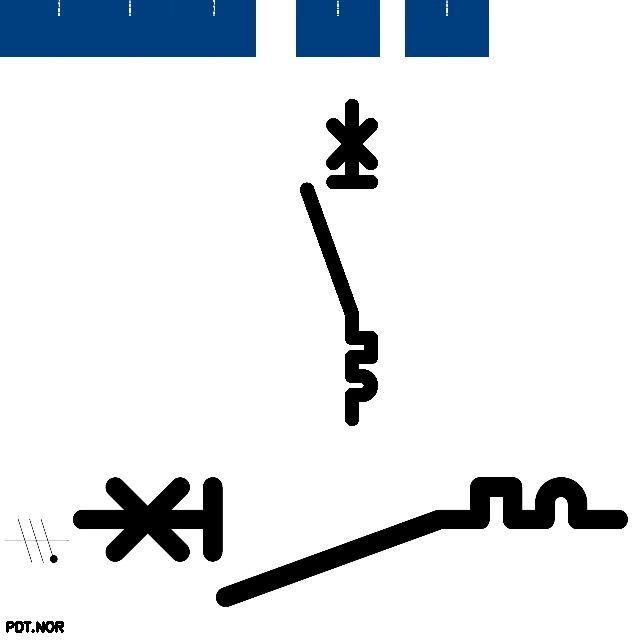interruptor_termomagnetico: (68, 473, 632, 611), (299, 98, 379, 427)
